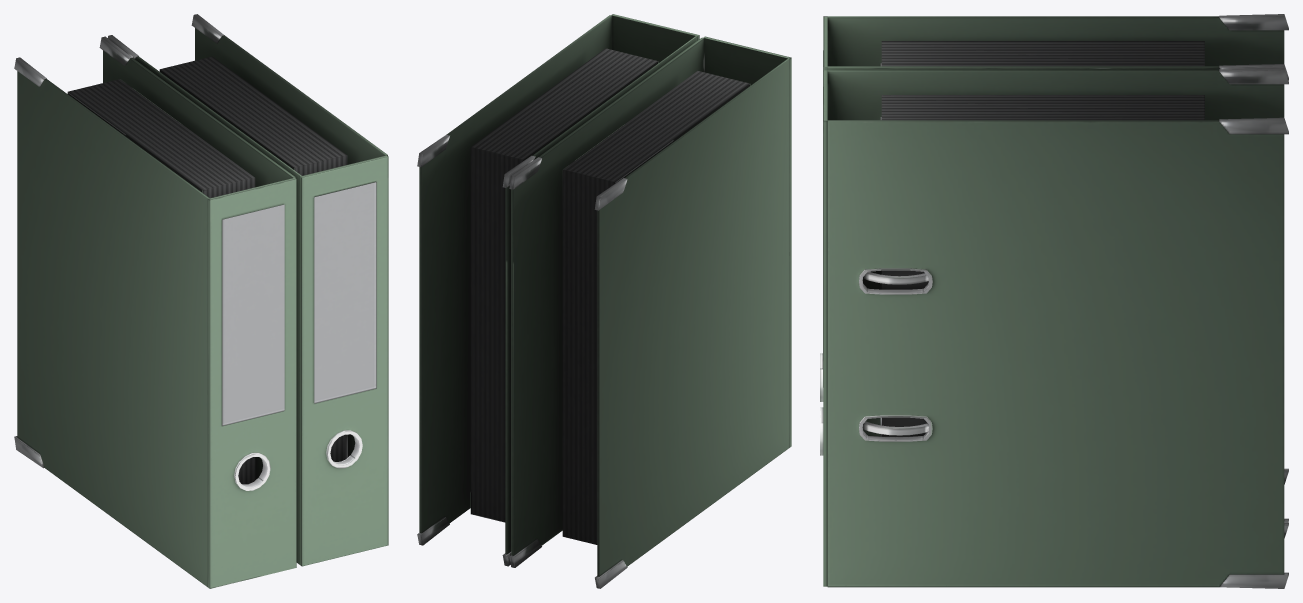
The model's file is acces0010.glb.
The picture shows the model from 3 angles, left to right: view 1: azimuth 30°, elevation 25°; view 2: azimuth 150°, elevation 25°; view 3: azimuth 270°, elevation 25°; orthographic projection. The views are drawn at different scales.
Visible parts, largest first — view 1: documents; view 2: documents; view 3: documents.
Boxes of the visible parts, <box> form: documents: <box>14,14,388,588</box>; documents: <box>417,14,791,588</box>; documents: <box>820,14,1288,588</box>.
Size of the model in its own units: 159 by 320 by 290.
8 materials, 8 textured.
